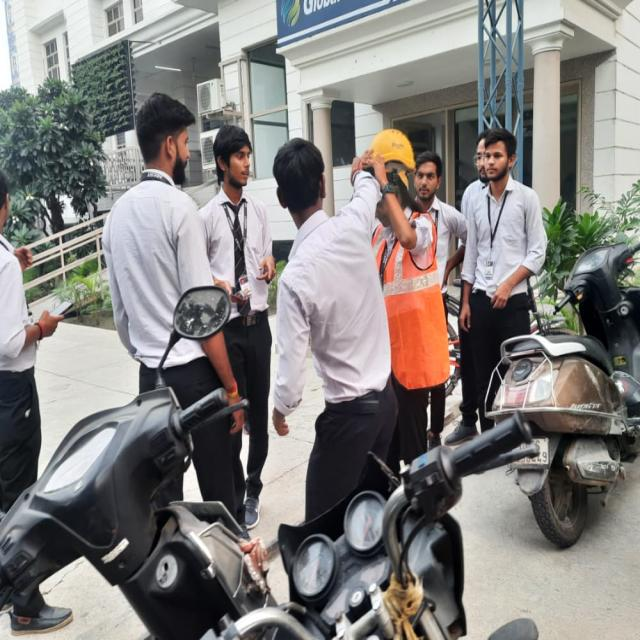safe: (369, 121, 451, 489)
unsafe: (104, 87, 246, 508), (269, 141, 393, 514), (206, 121, 275, 531), (464, 125, 550, 428)
